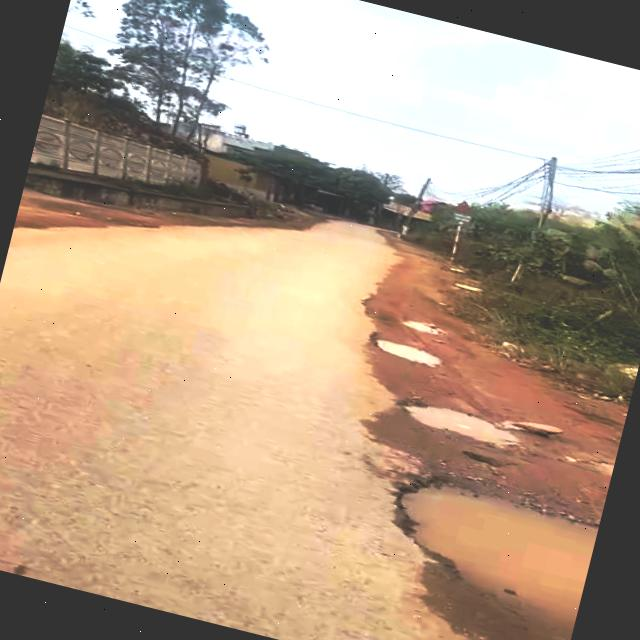pothole: (368, 450, 604, 630), (392, 390, 526, 455), (362, 323, 455, 373)
